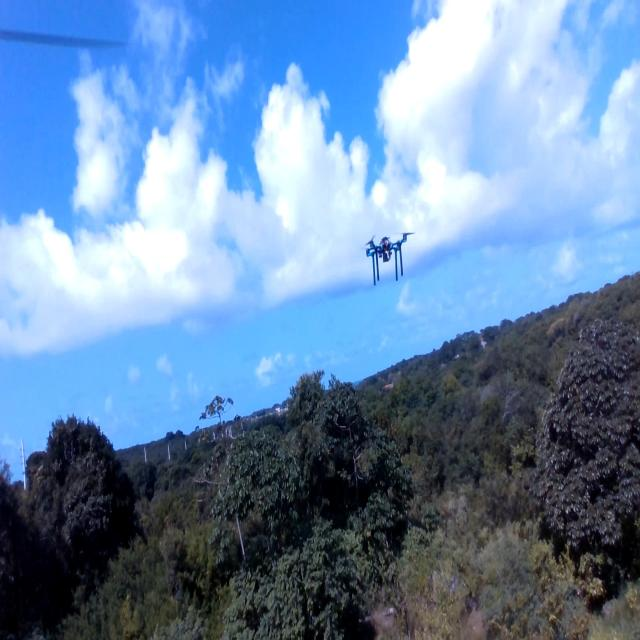-uav-: (358, 218, 418, 295)
